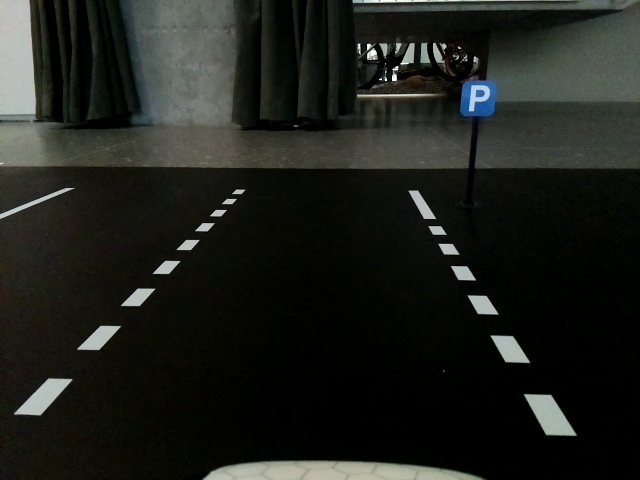park: (462, 80, 496, 117)
